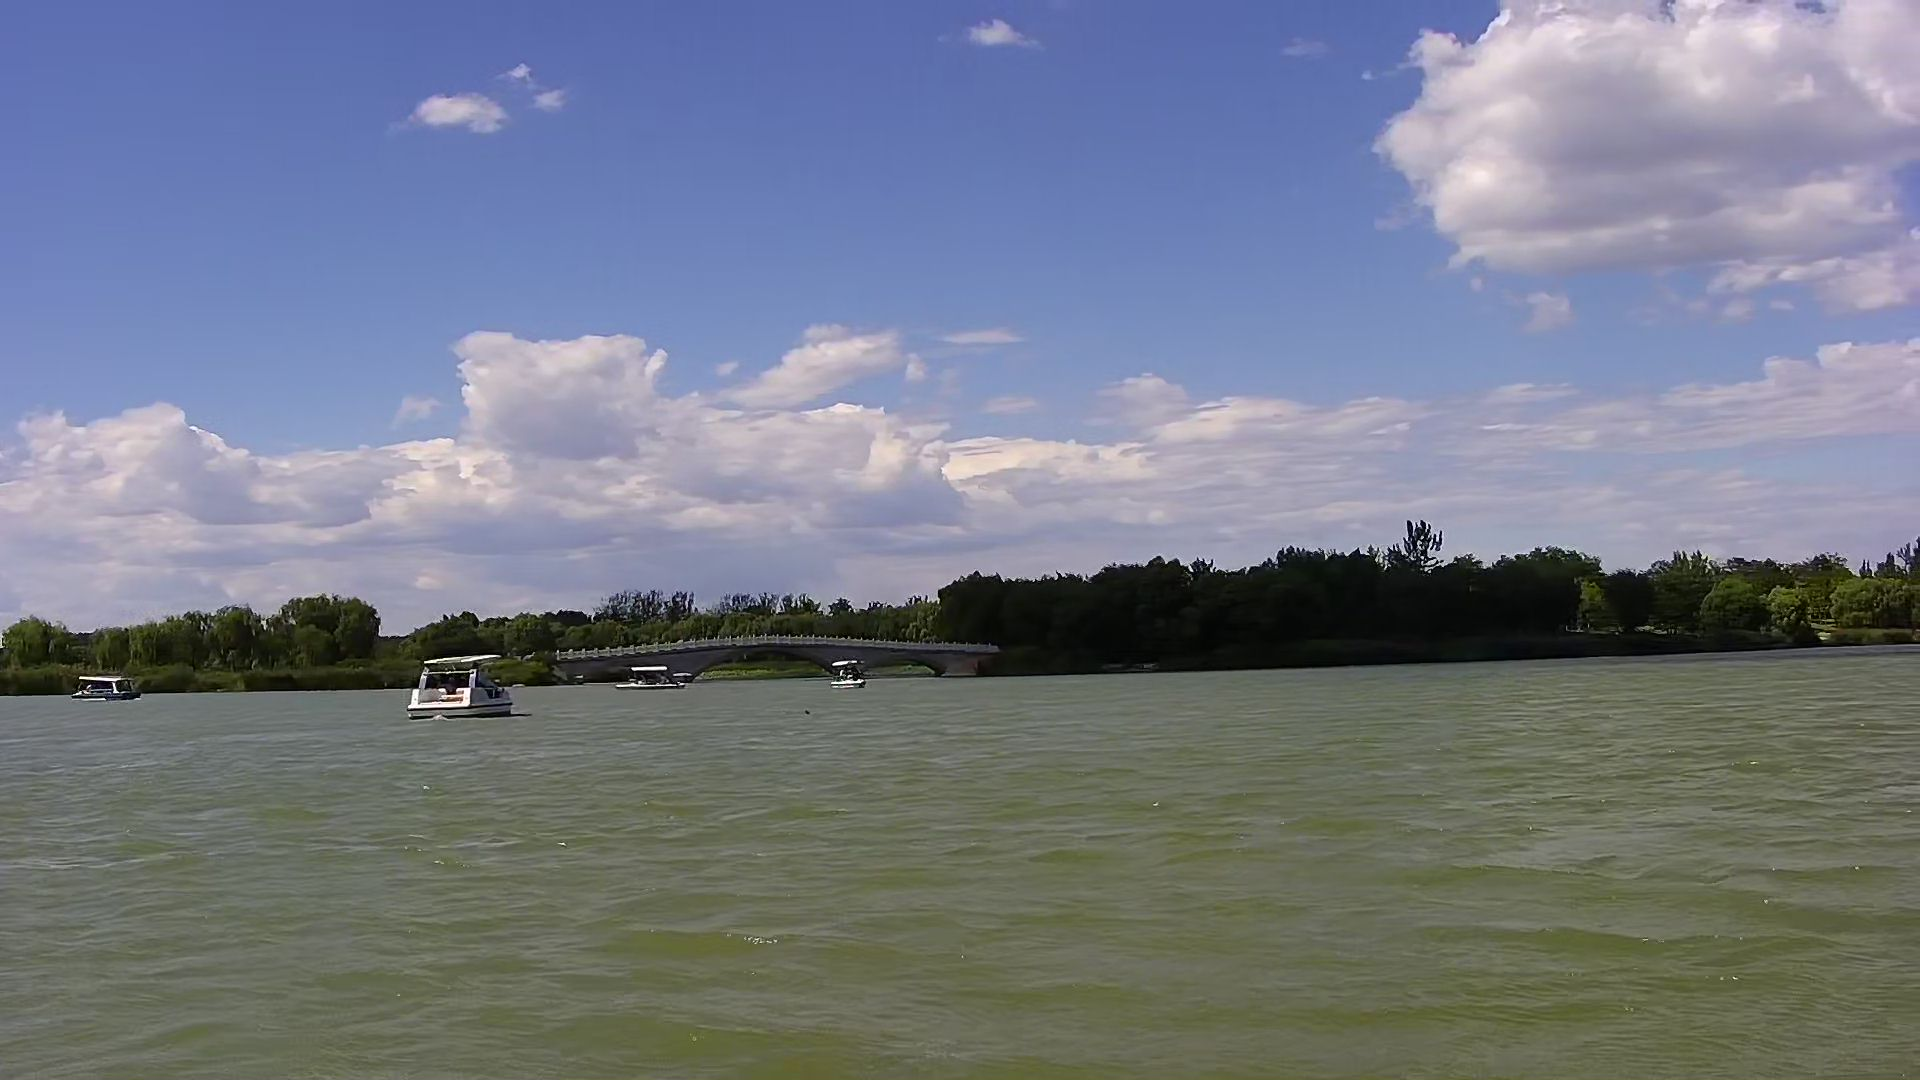boat: (407, 646, 520, 729), (615, 666, 695, 708), (73, 667, 150, 709), (825, 654, 869, 692)
bridge: (539, 618, 996, 704)
